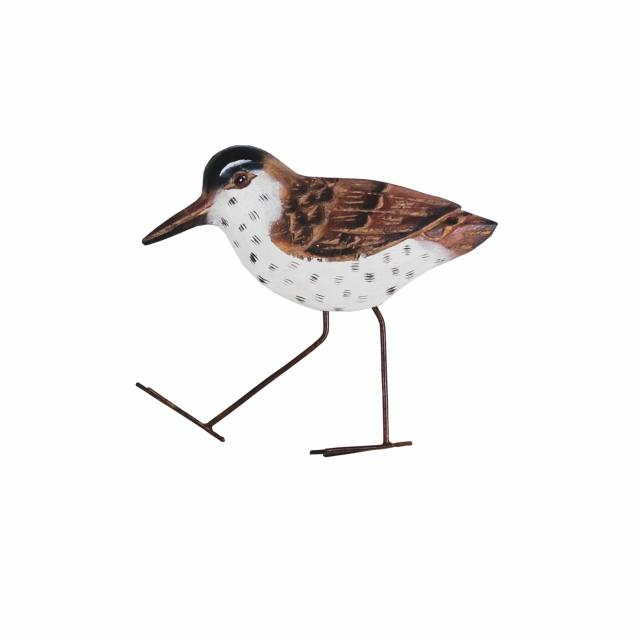Sandpiper: (136, 140, 496, 465)
